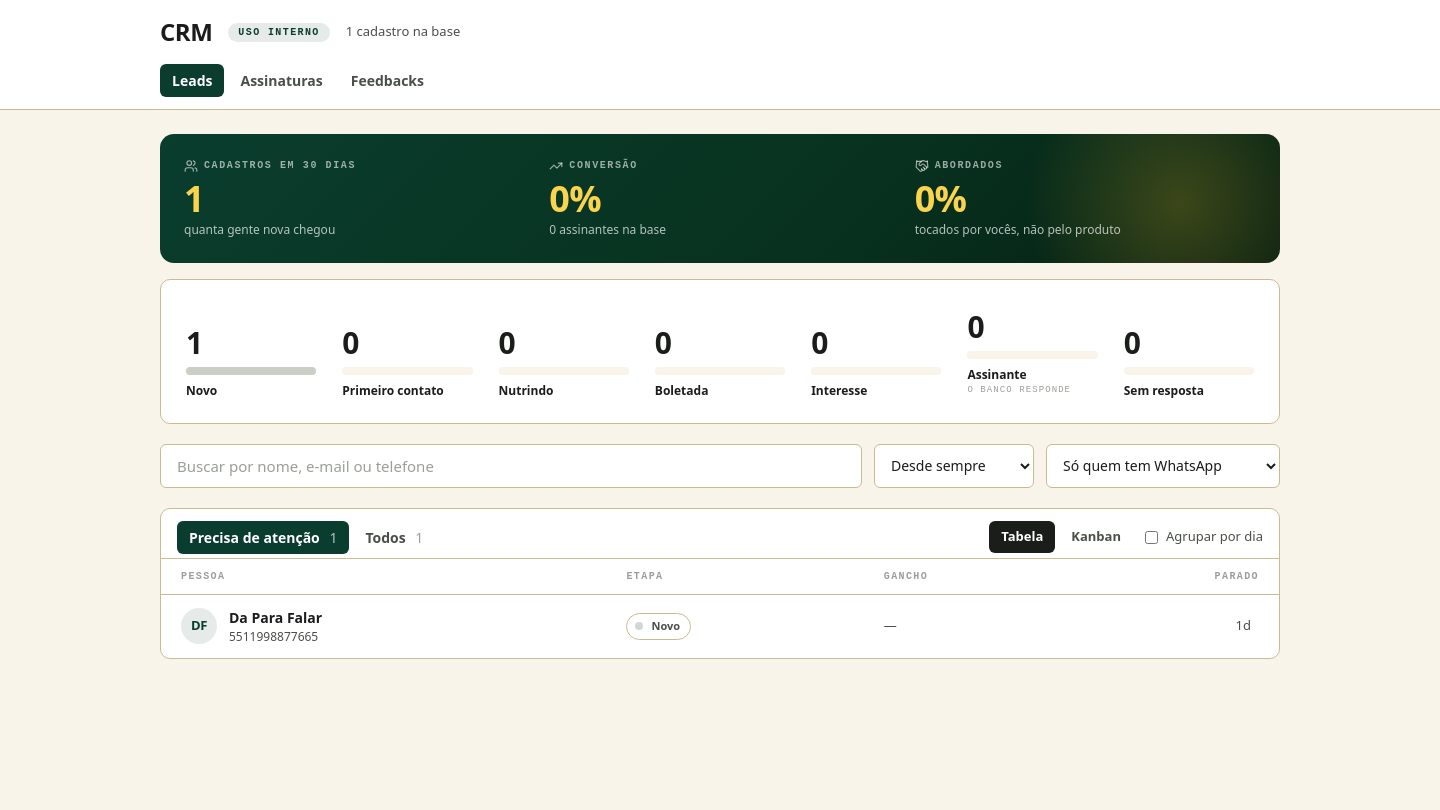
Scenario: PainelCrm · o filtro de WhatsApp › lista vazia no "só quem não tem" é boa notícia, e a frase diz isso
Select "Só quem não tem WhatsApp" in the dropdown named "filtrar por whatsapp" at (1163, 466), box [1046,444,1280,488]
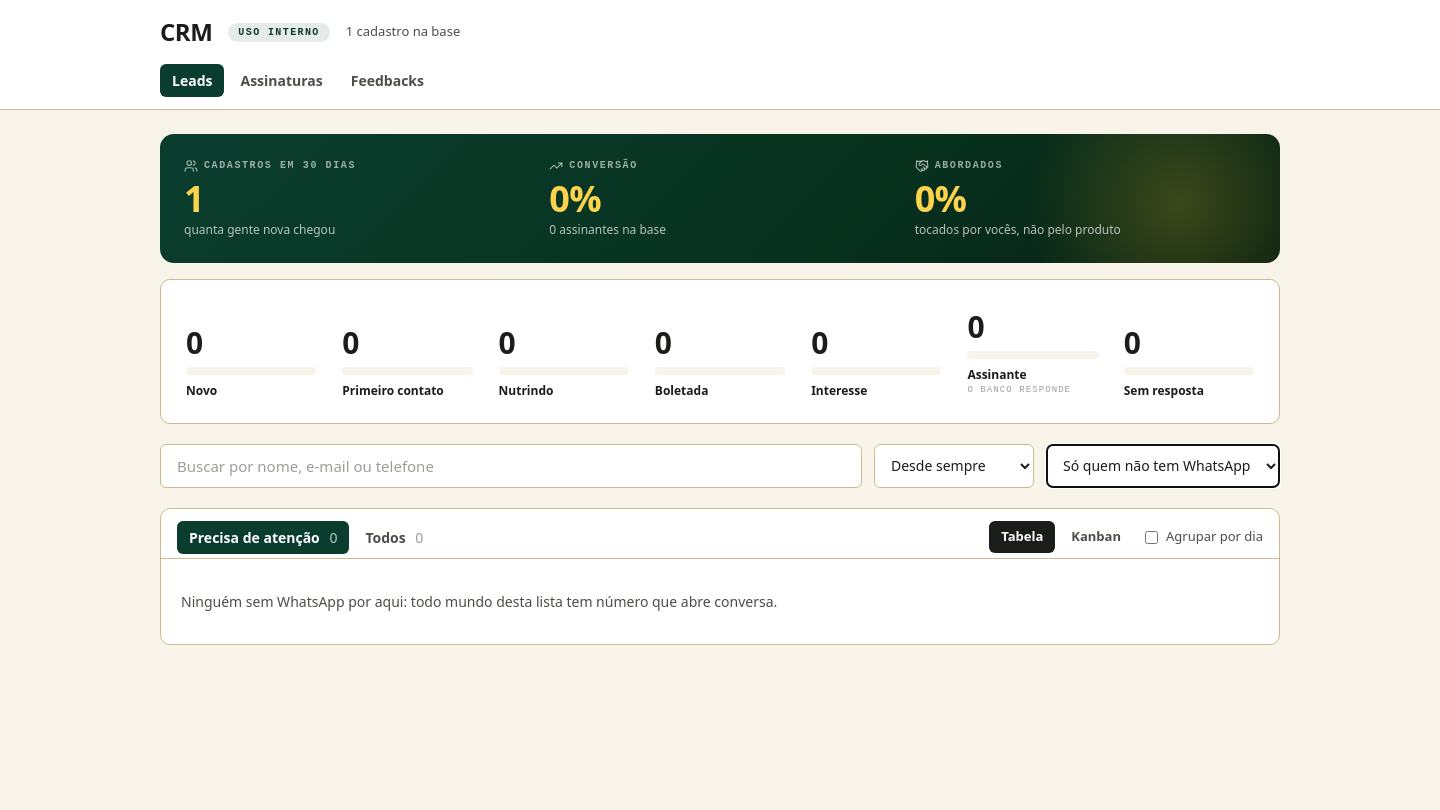
Expected: the text "Ninguém sem WhatsApp por aqui" is shown, [181,592,777,610]
